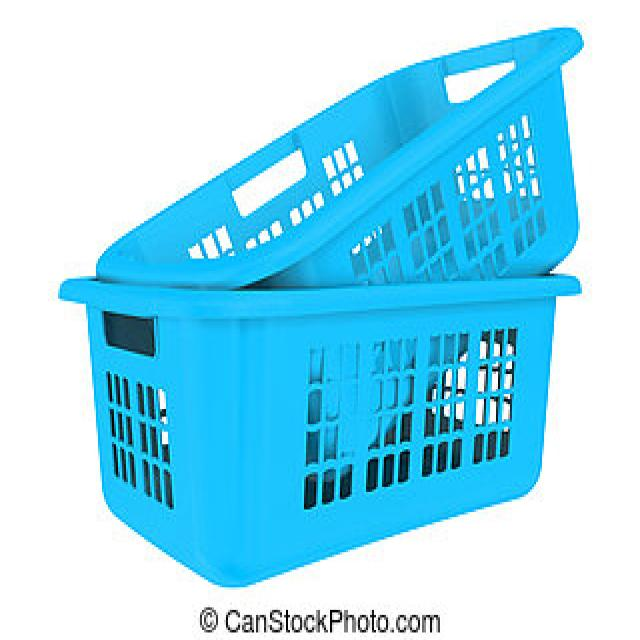basket: (60, 266, 590, 592), (85, 28, 596, 299)
